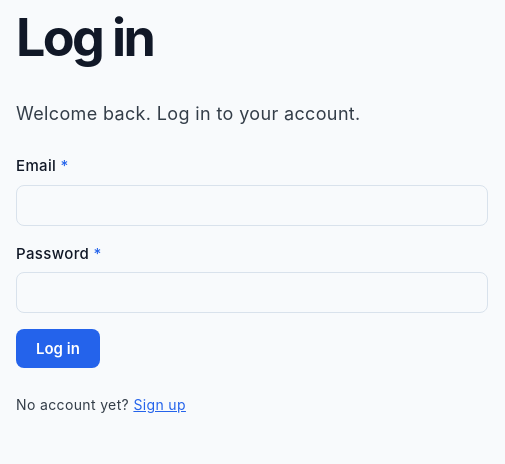
it: Login redirect on success › does not navigate when sign-in fails
Type "someone@example.com" into the field labelled "Email *" at (252, 205), box [16,185,488,226]
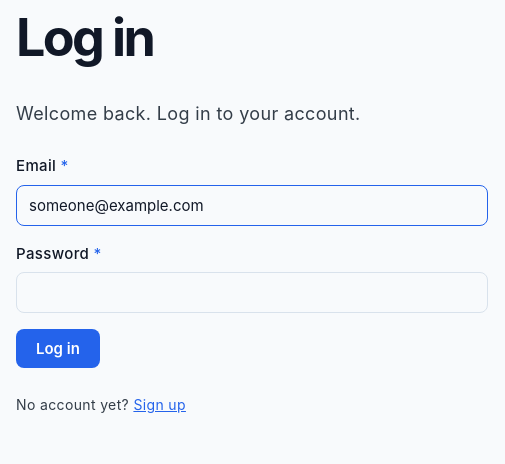
Type "secret123" into the password field labelled "Password *" at (252, 293), box [16,272,488,314]
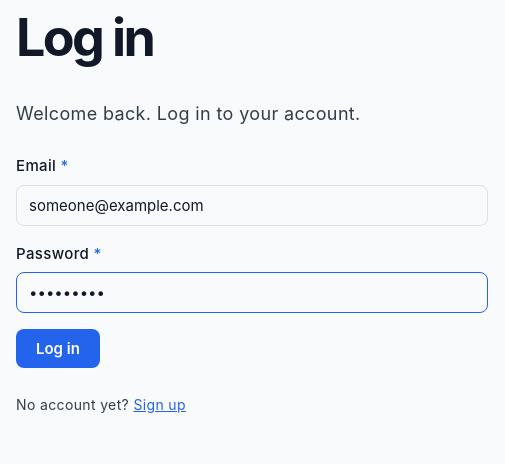
Click the button "Log in" at (58, 349), box [16,330,100,368]
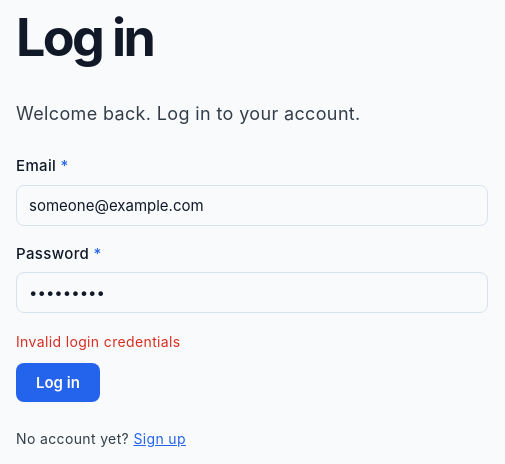
Expected: the message shows "Invalid login", [16,334,181,350]
